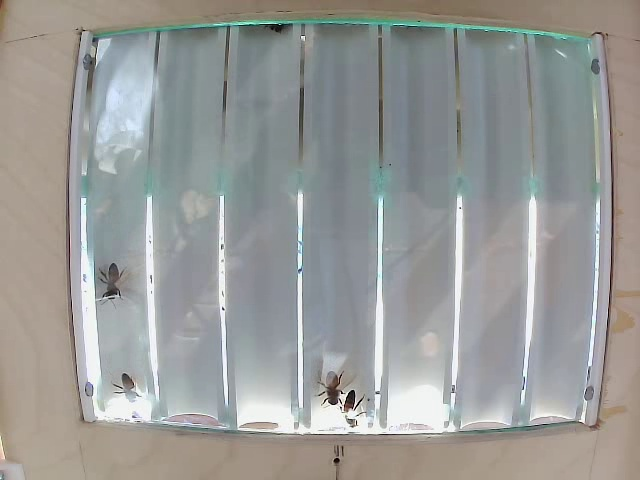bee: (317, 366, 343, 404), (98, 261, 117, 310), (338, 389, 363, 425), (114, 375, 141, 401)
